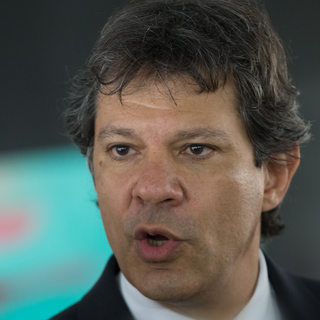eye: (174, 138, 223, 163), (100, 139, 143, 164)
